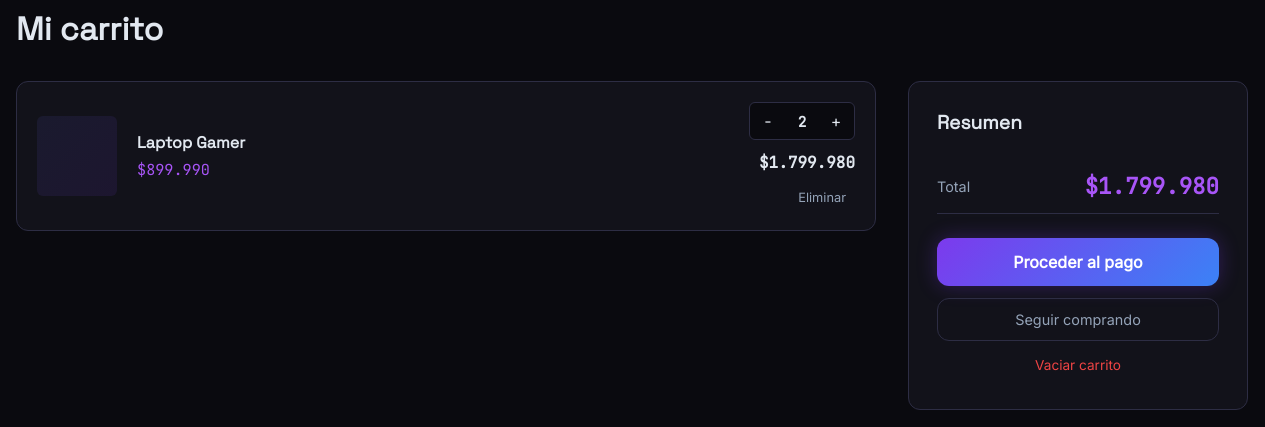
Test case: HU-07 · Carrito de compras › CA3b: el selector de cantidad decrementa correctamente
Expected: the text "2" is shown, [798,112,806,130]
Click the button with test id "btn-decrementar-1".
click(768, 121)  # box [754,107,782,135]
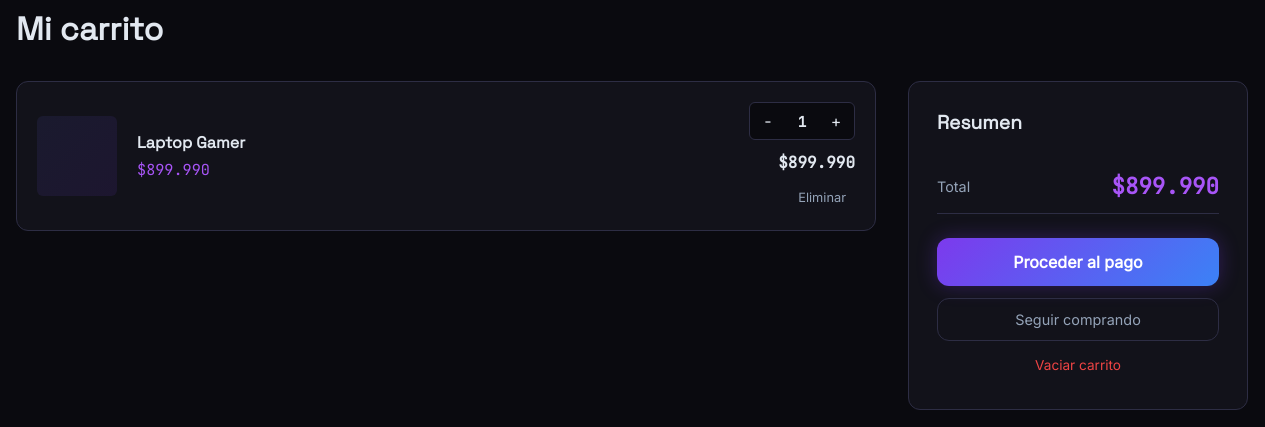
Now the text with test id "cantidad-1" reads "1", box [798,112,806,130]
